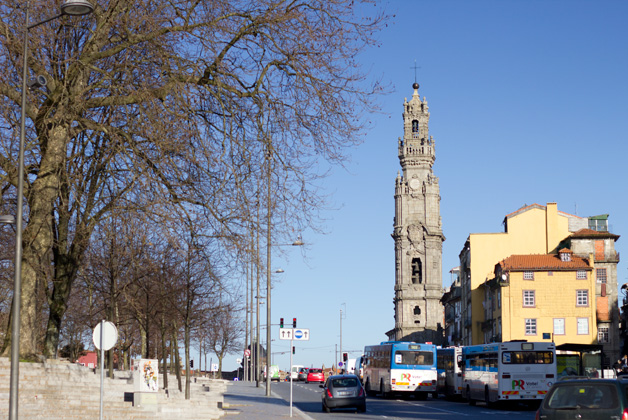clerigos: (389, 58, 447, 344)
